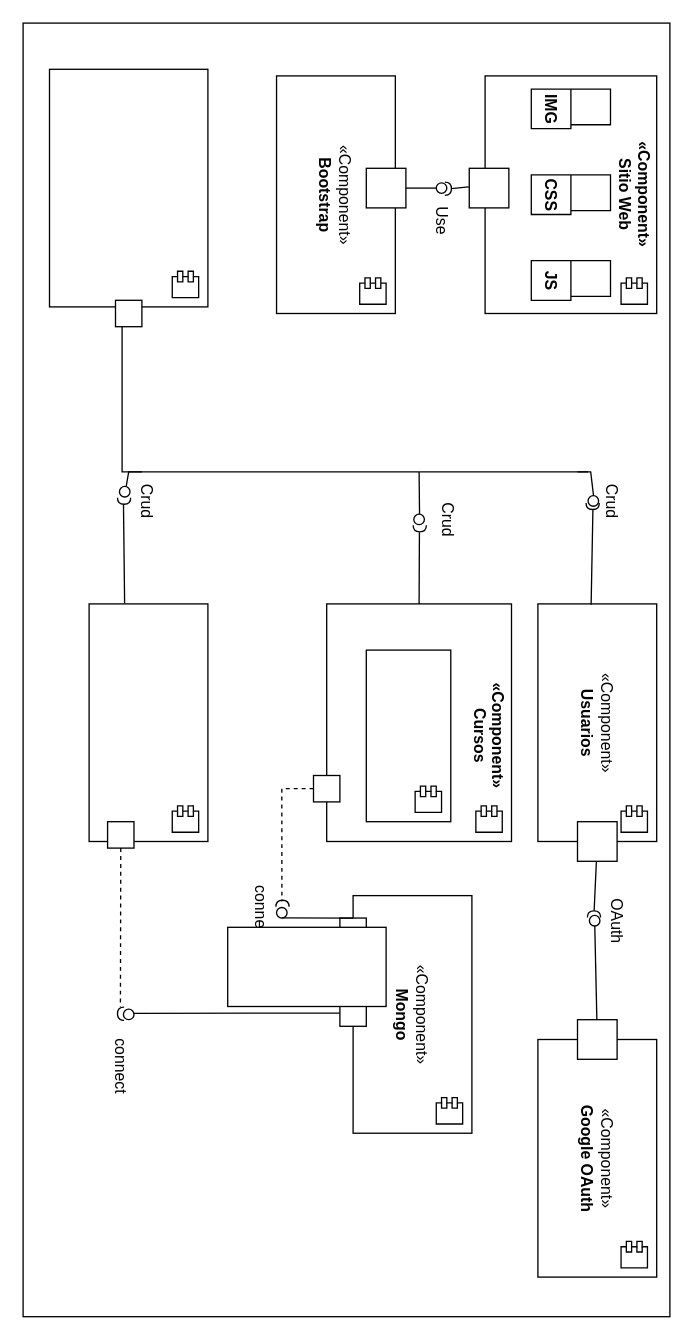
This 693x1340 diagram has some shape labels left out. Here are the shapes that lost their labels. From the top down, the box of each, then its label:
(48, 68, 208, 307): «Component» Administrador
(88, 603, 208, 842): «Component» Matrícula
(365, 649, 451, 822): «Component» Unidades
